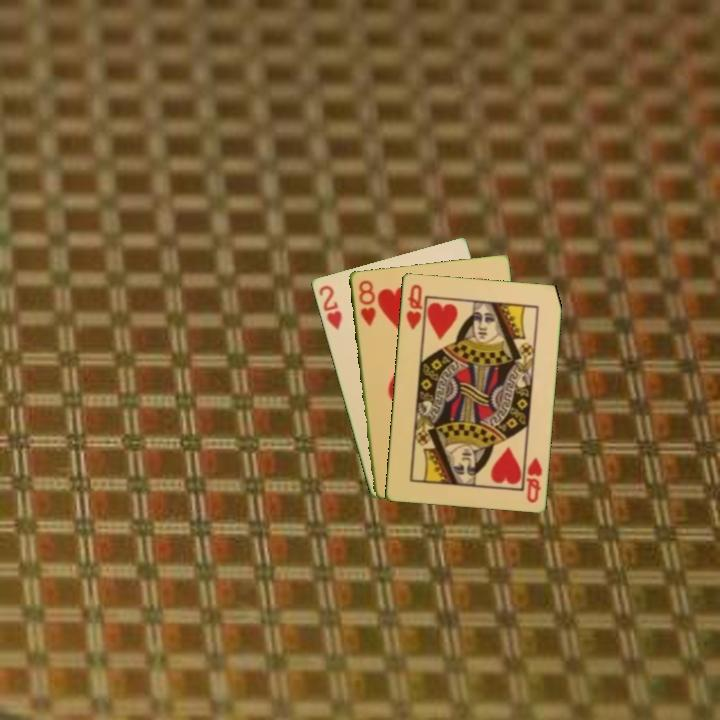2h: (315, 281, 345, 332)
8h: (355, 276, 378, 329)
Qh: (402, 281, 425, 332), (523, 453, 545, 506)
